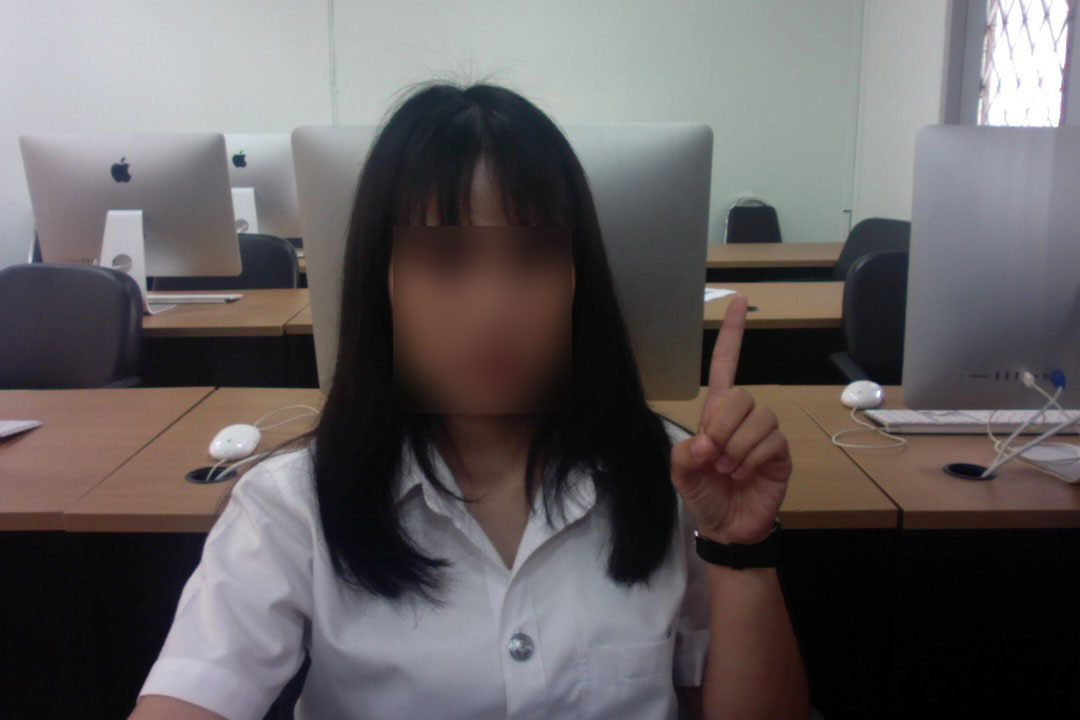dor: (662, 286, 799, 561)
